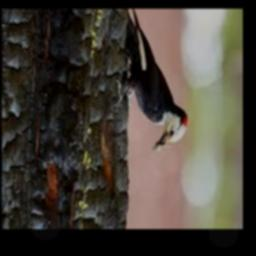Woodpecker: (114, 9, 186, 154)
